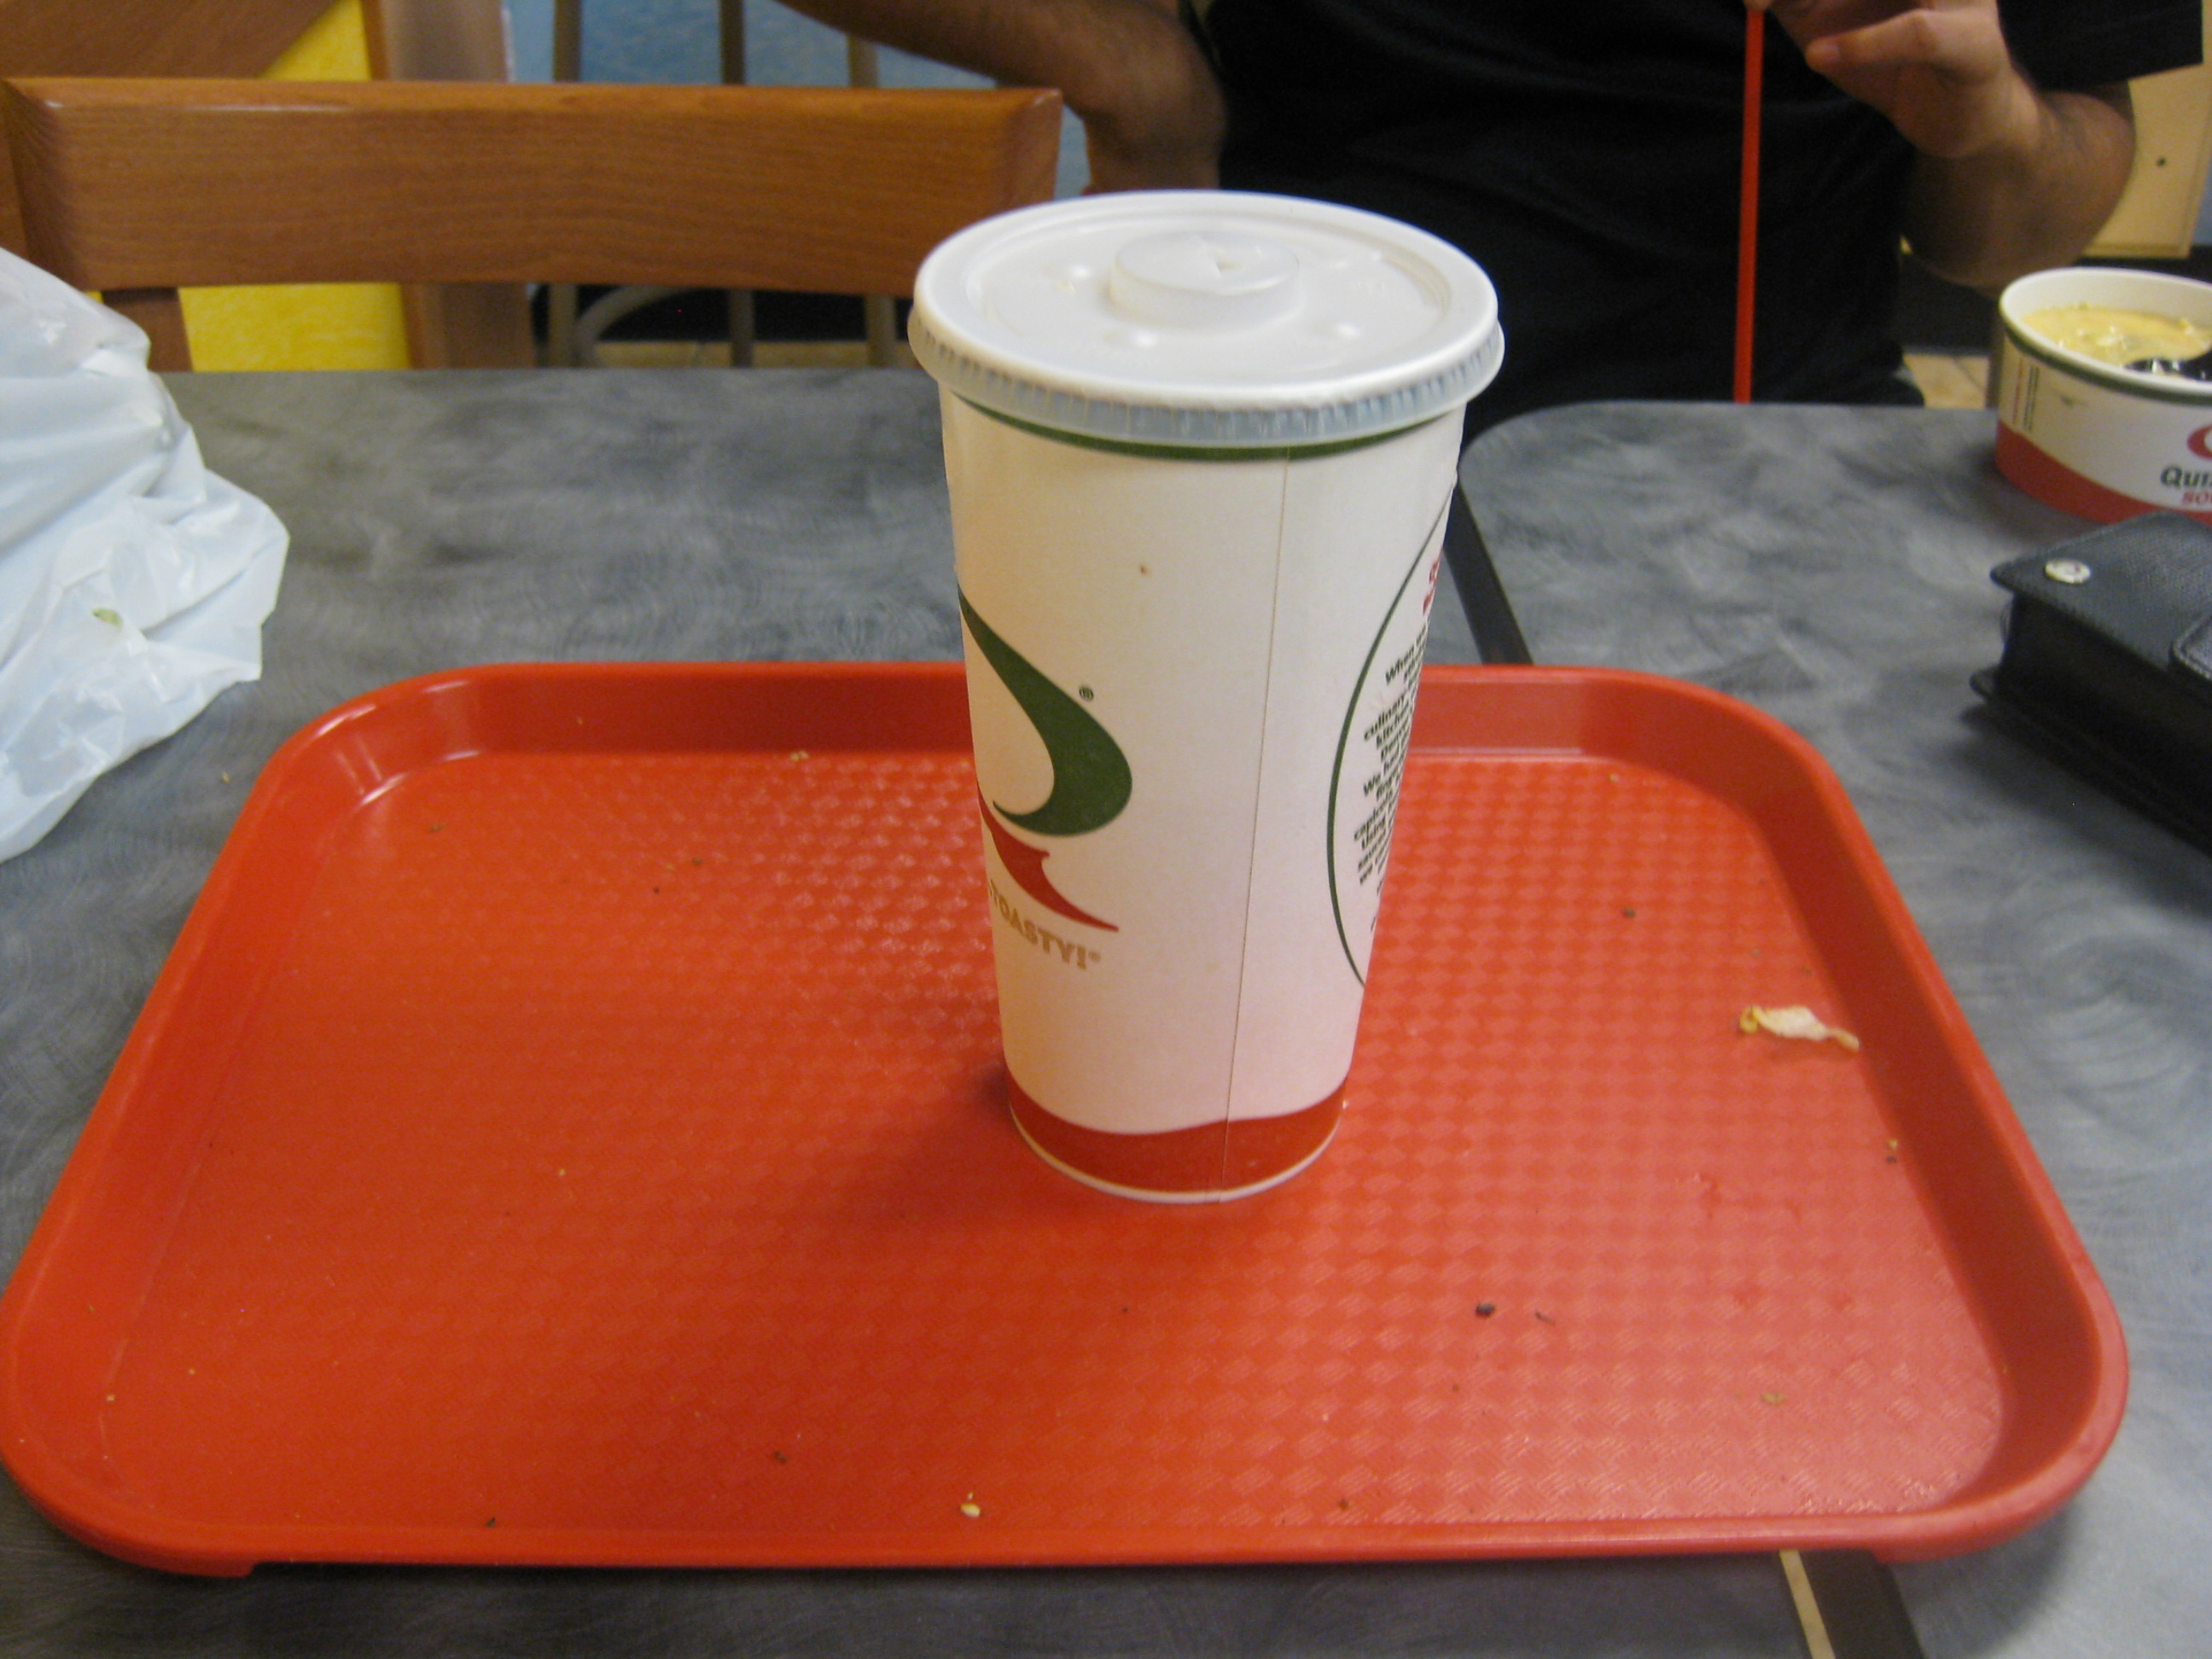drink: (891, 148, 1544, 1226)
